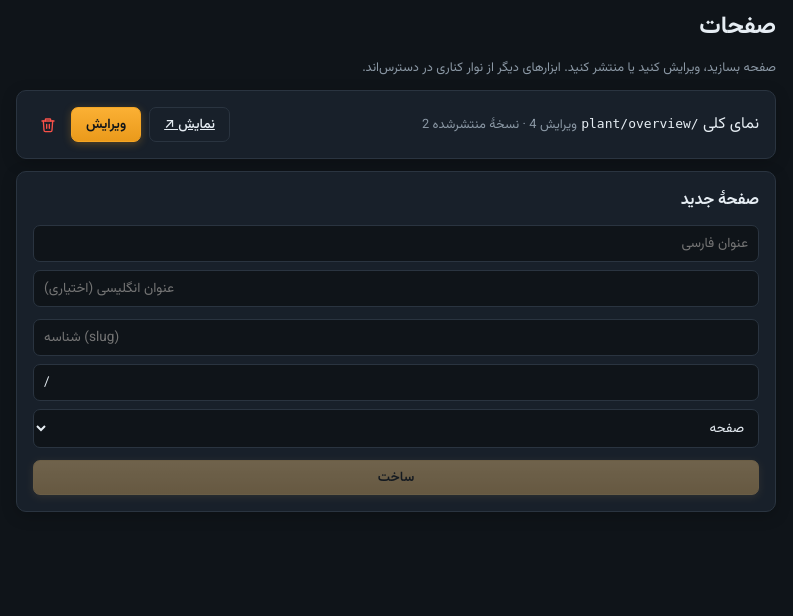
Test: deleting a page › explains a permission error
Click the button named "حذف صفحهٔ": (48, 124) [33,110,63,140]
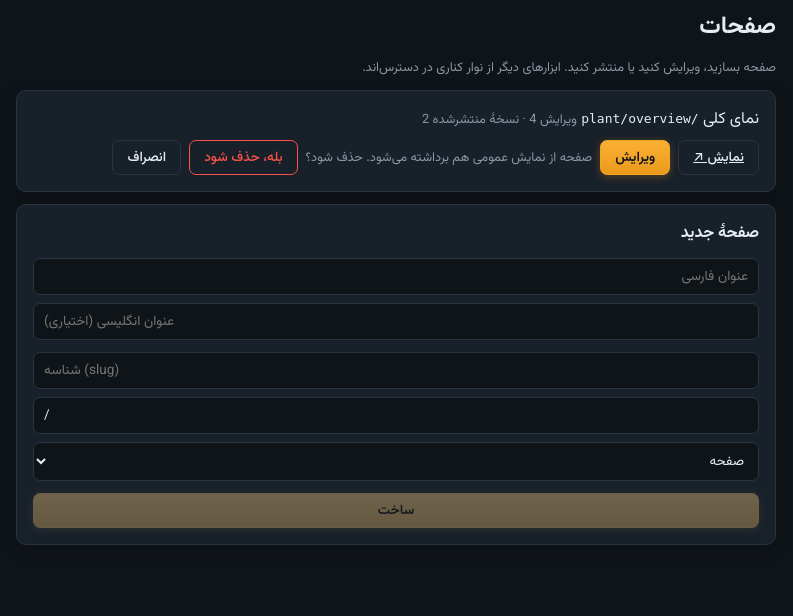
Click the button "بله، حذف شود": (243, 158) [189,140,298,175]
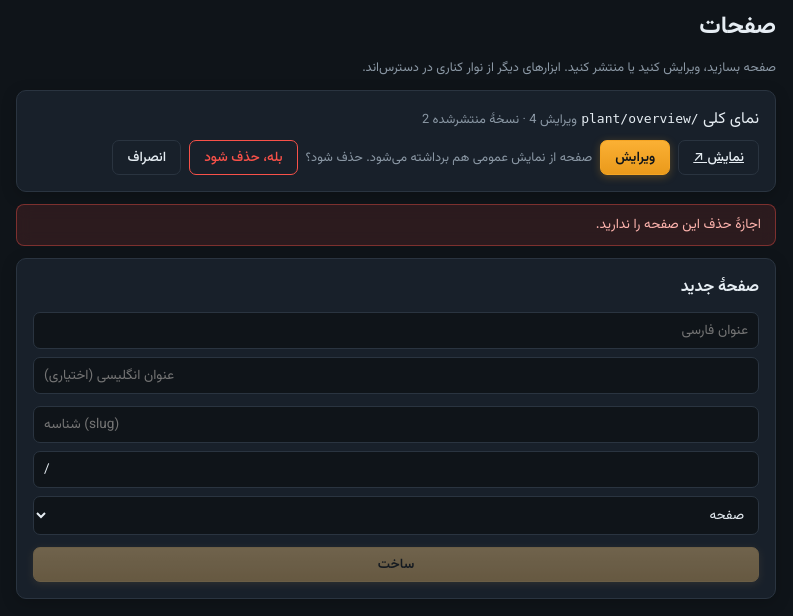
Now the text "اجازهٔ حذف این صفحه را ندارید." is shown, box [16,204,776,246]
